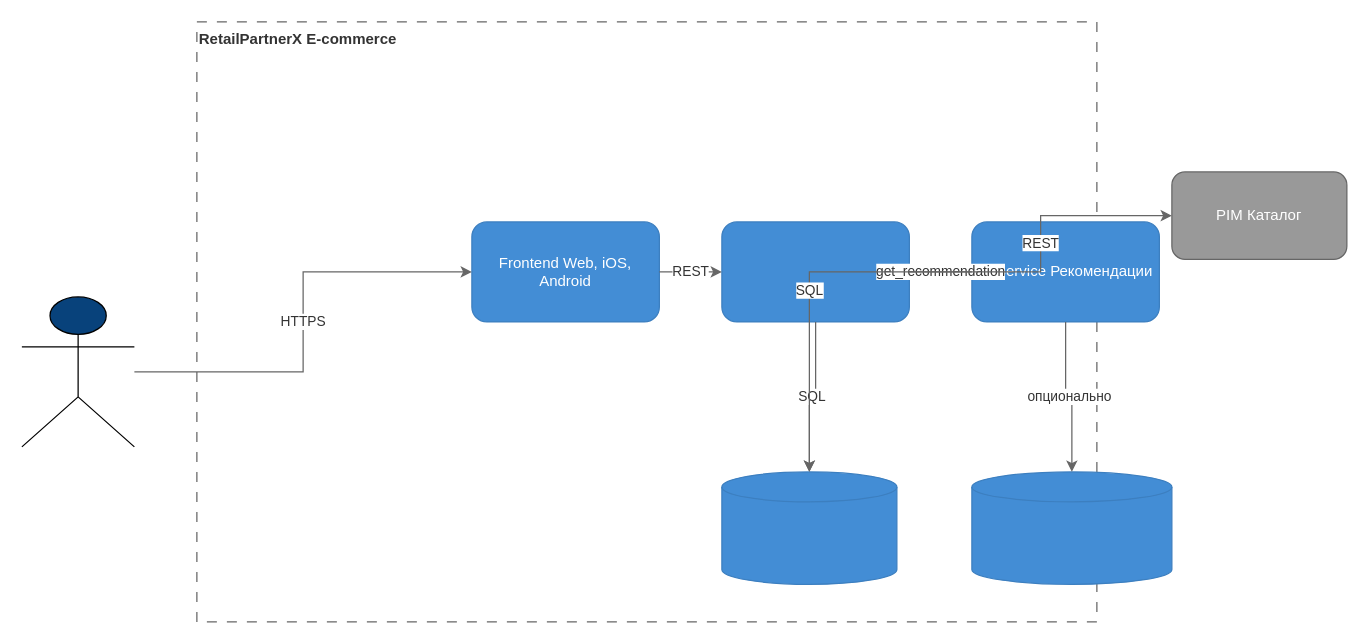
Image size: 1369x644. Some labels were removed from this diagram. Here are the shapes that lost their labels. From the top down, the centre of each, then its label:
pixel 815 271: Backend BFF, корзина
pixel 809 527: SQL DB PostgreSQL
pixel 1071 527: Vector DB опционально / RAG future
